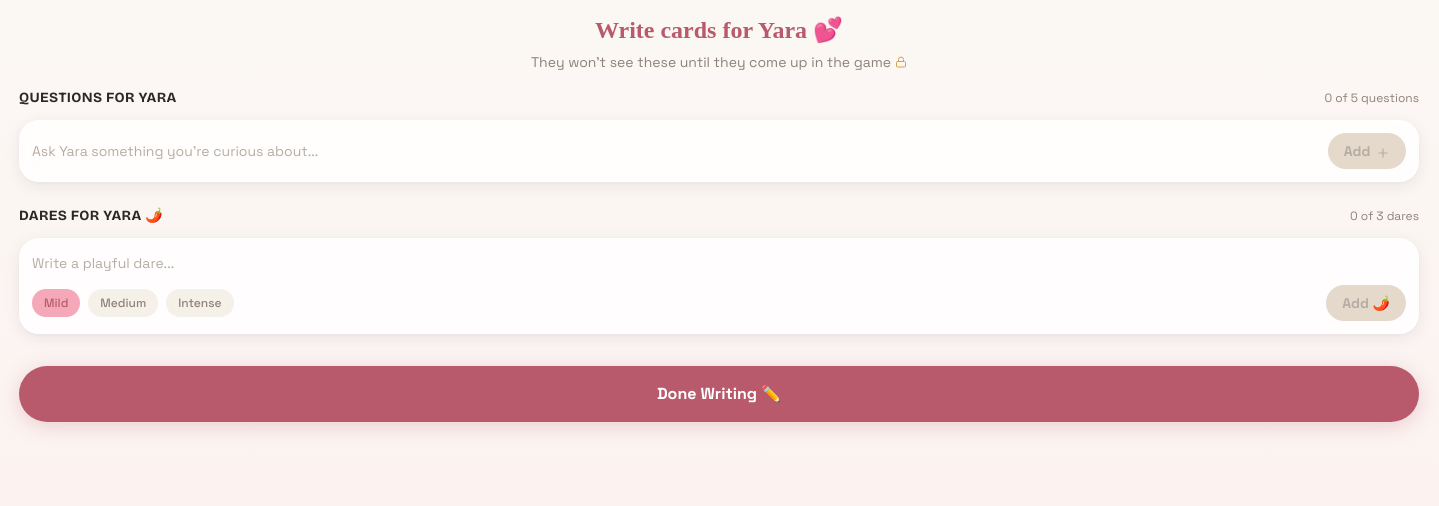
PartnerAuthoredSetup › adds a dare when Add dare button is clicked
This screenshot has width=1439, height=506.
Type "Sing a song" into the field with placeholder "Write a playful dare...".
click(719, 263); type("Sing a song")  # box x1=32 y1=253 x2=1406 y2=273
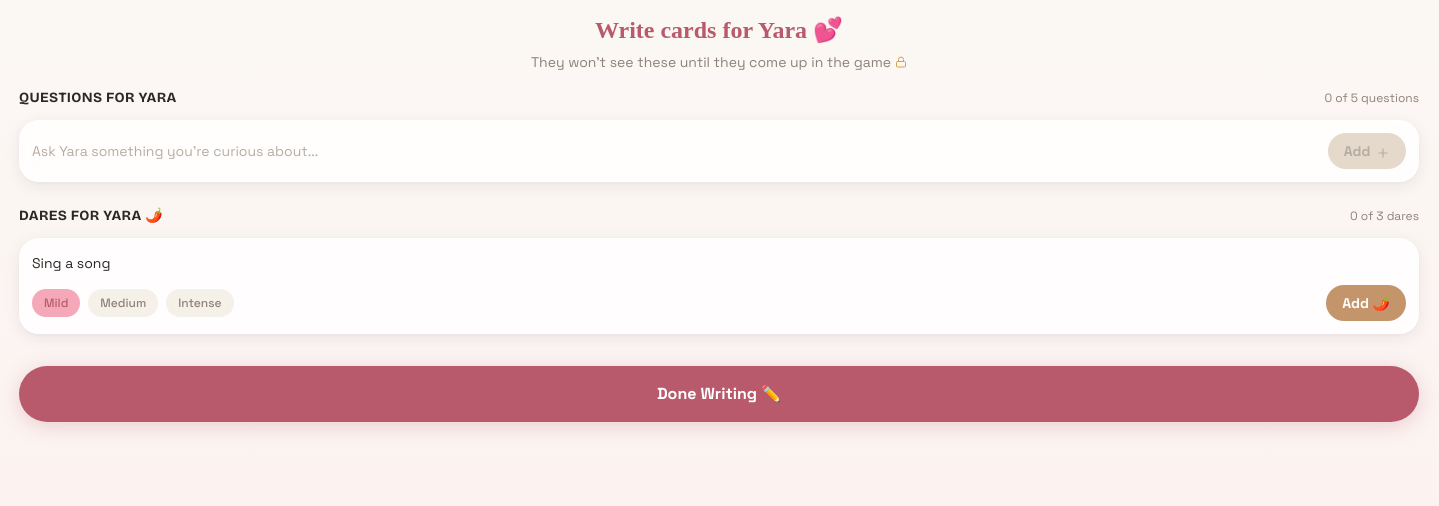
Click the button "Add 🌶️".
click(1366, 303)  # box x1=1326 y1=285 x2=1406 y2=321
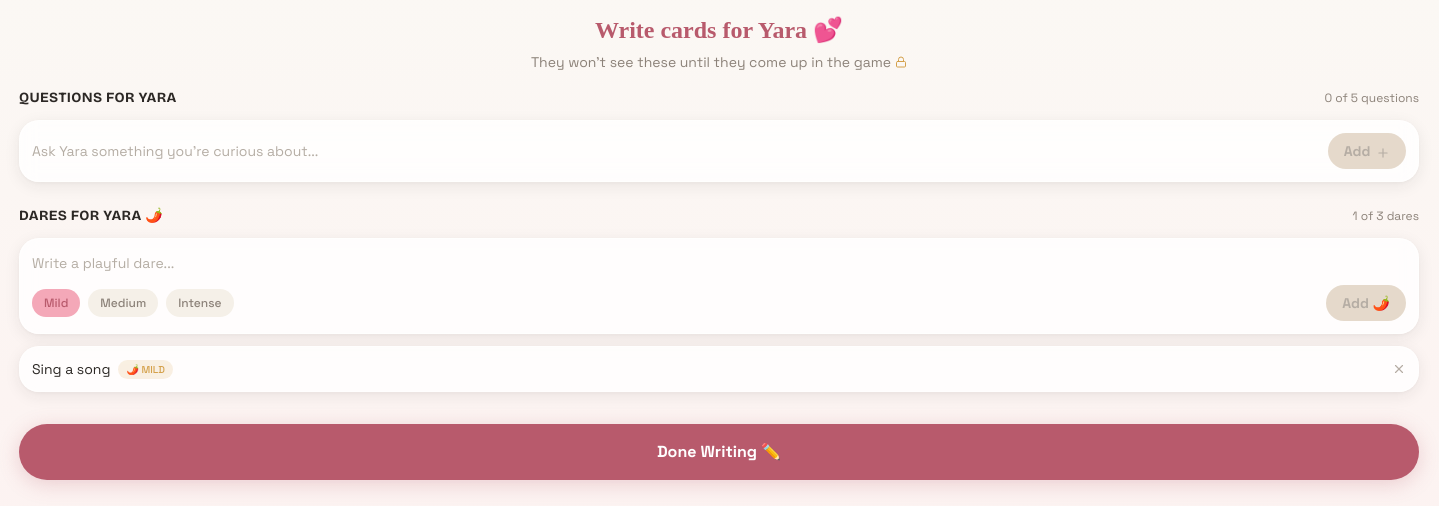
Now the text "Sing a song" is shown, box x1=32 y1=359 x2=110 y2=379
Now the text "1 of 3 dares" is shown, box x1=1353 y1=208 x2=1419 y2=224
